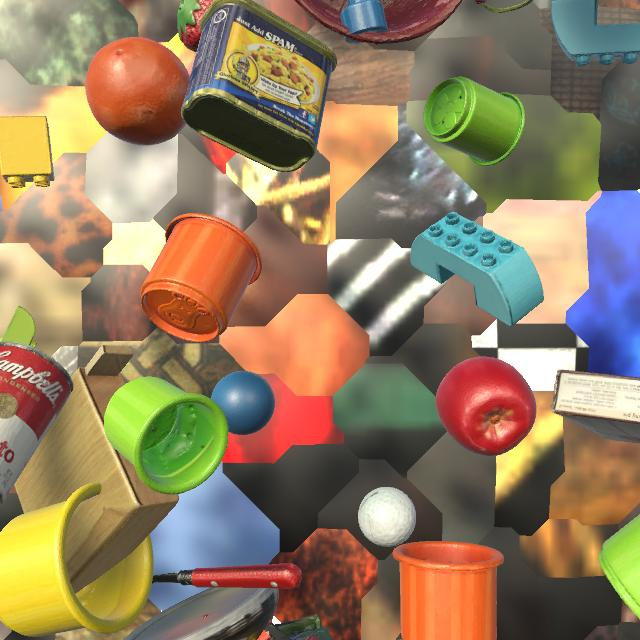ycb_005_tomato_soup_can: (0, 341, 74, 506)
ycb_008_pudding_box: (551, 369, 640, 444)
ycb_010_potted_meat_can: (181, 0, 337, 172)
ycb_012_strawberry: (177, 0, 213, 52)
ycb_013_apple: (435, 357, 537, 456)
ycb_017_orange: (85, 37, 190, 146)
